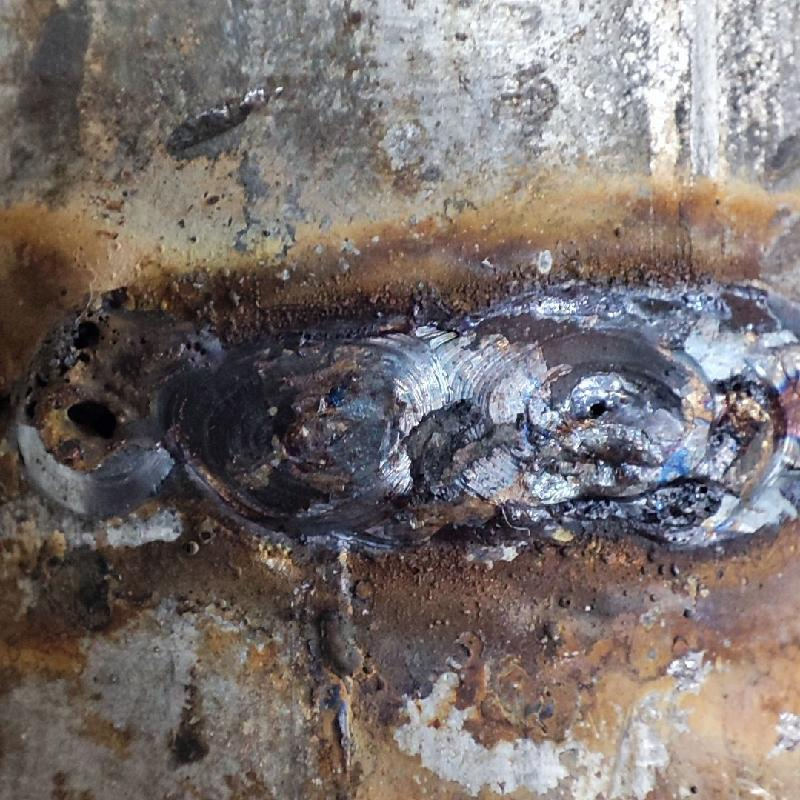Surface_pores: (53, 384, 114, 441), (578, 389, 612, 431)
crater: (202, 344, 799, 528)
